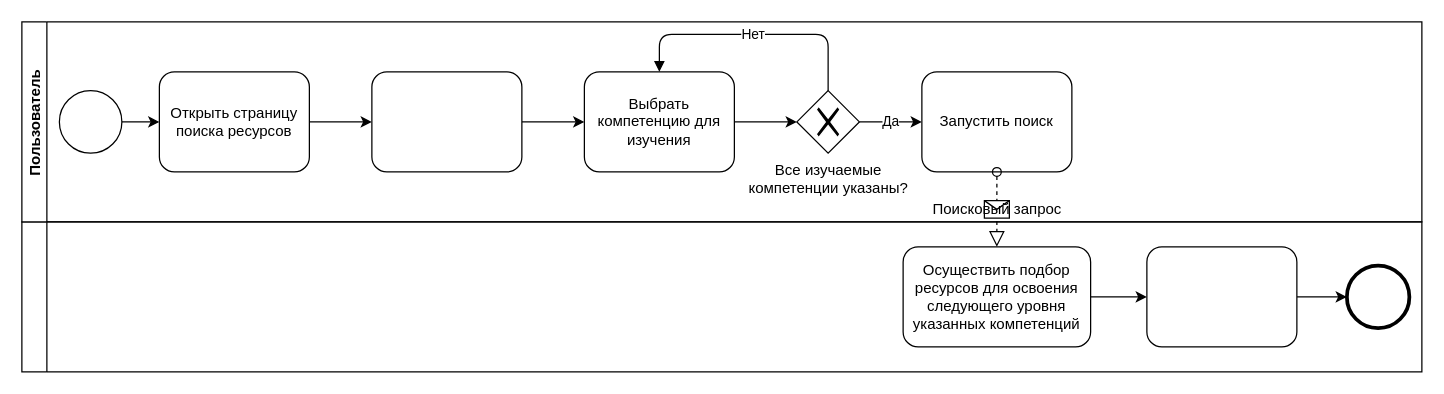
The diagram is 1444 pixels wide and 394 high, and some of its shapes have lost their labels. Here are the shapes that lost their labels. From the top down, the box of each, then its label:
(371, 71, 522, 172): Указать сотрудника
(21, 221, 1422, 372): Система
(1146, 246, 1297, 347): Отобразить список ресурсов для изучения
